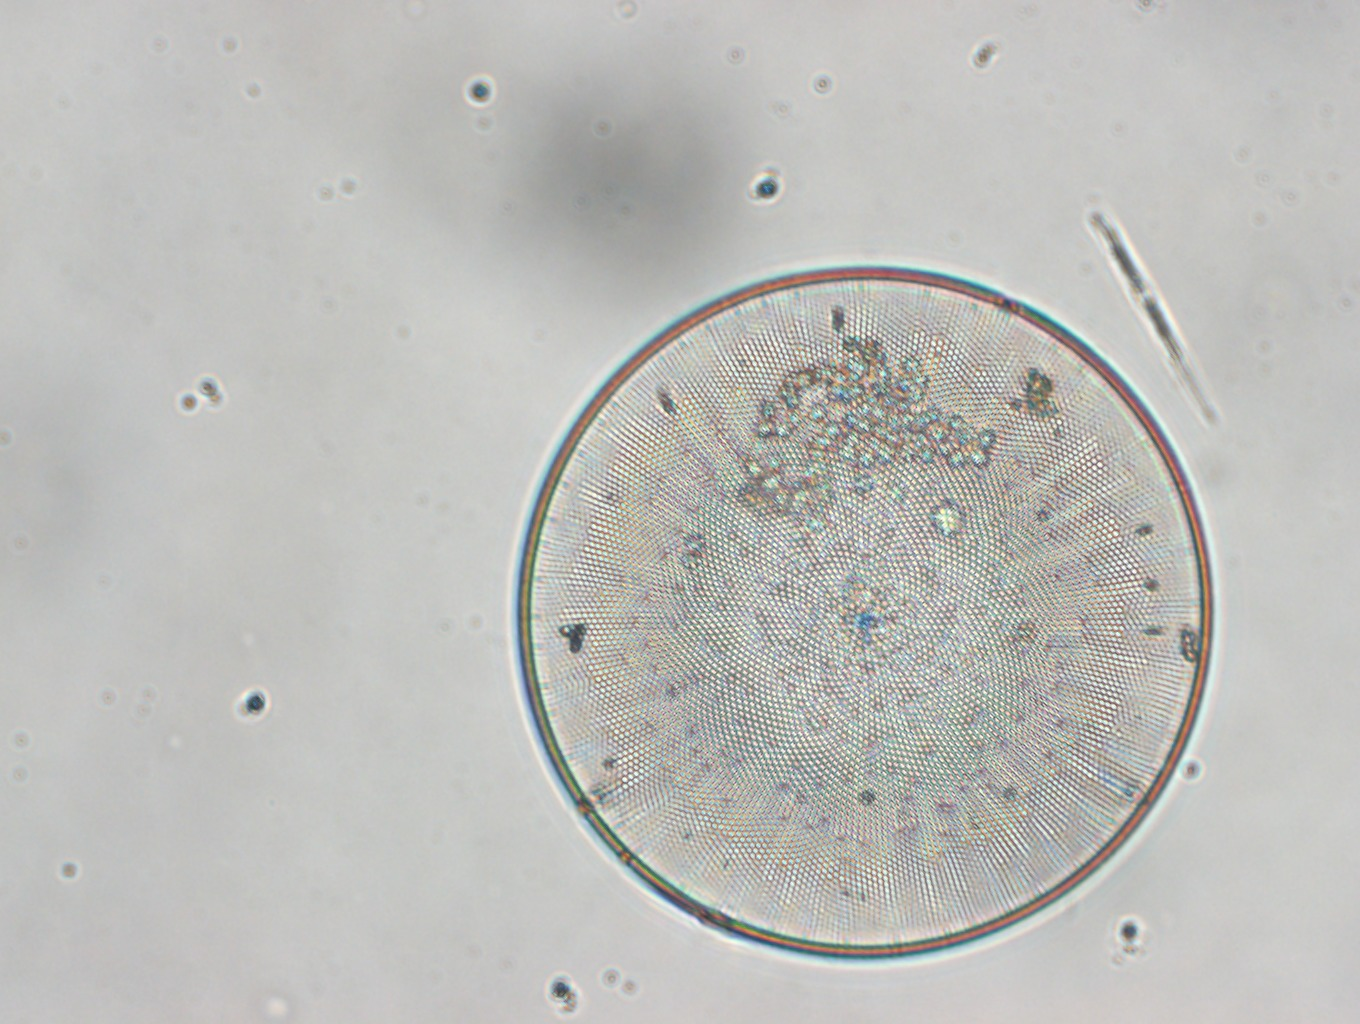coscinodiscus: (516, 266, 1216, 964)
